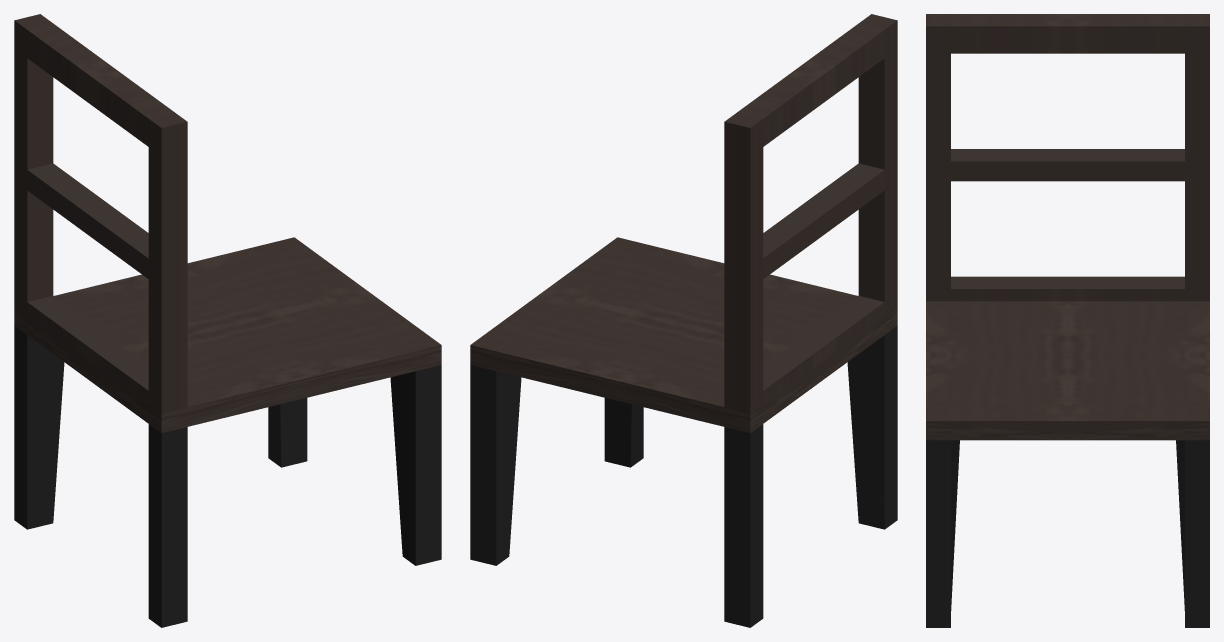
Rendered from chair.fbx.
3 renders of one model, left to right at view 1: azimuth 30°, elevation 25°; view 2: azimuth 150°, elevation 25°; view 3: azimuth 270°, elevation 25°, orthographic. The views are drawn at different scales.
Visible parts, largest first — view 1: Cube.005; view 2: Cube.005; view 3: Cube.005.
Boxes of the visible parts, x1=… form: Cube.005: x1=14, y1=14, x2=441, y2=627; Cube.005: x1=470, y1=14, x2=897, y2=627; Cube.005: x1=926, y1=14, x2=1209, y2=627.
Size of the model in its own units: 142 by 242 by 129.
2 materials, 2 textured.
